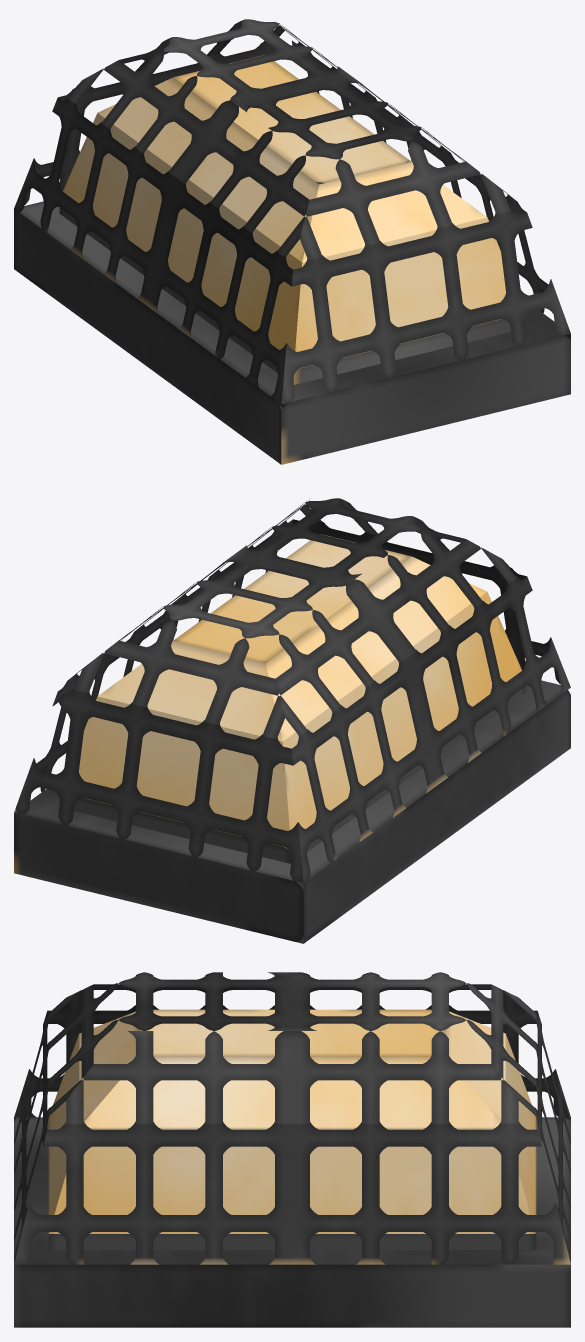
File: IndustrialLight0.obj
3 views of the same model, one above another, from view 1: azimuth 30°, elevation 25°; view 2: azimuth 150°, elevation 25°; view 3: azimuth 270°, elevation 25° (orthographic). The views are drawn at different scales.
Visible parts, largest first — view 1: Shell, Light; view 2: Shell, Light; view 3: Shell, Light.
Part boxes in pixels (x1=…): Shell: x1=14, y1=19, x2=570, y2=464; Light: x1=59, y1=55, x2=525, y2=407; Shell: x1=14, y1=498, x2=570, y2=943; Light: x1=59, y1=534, x2=525, y2=886; Shell: x1=14, y1=972, x2=570, y2=1327; Light: x1=48, y1=1009, x2=536, y2=1249.
Bounding box in the file's own units: 0.625 × 0.5 × 1.
